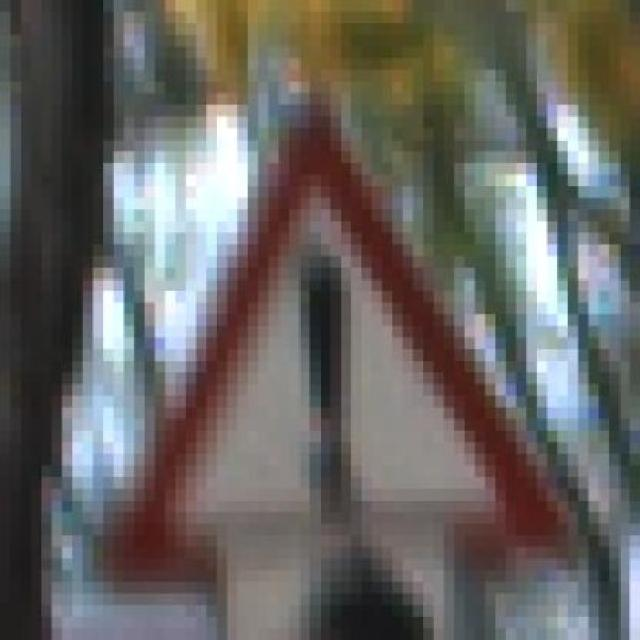Attention Please-: (72, 81, 598, 605)
